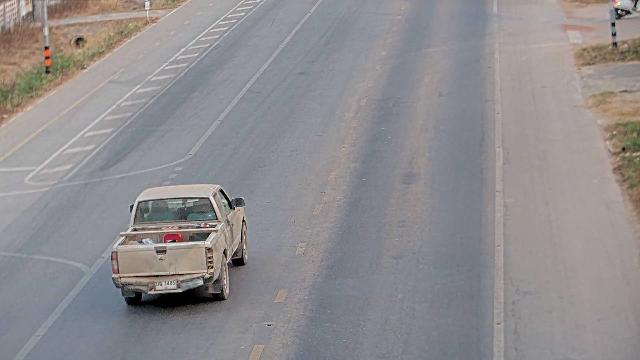pickup-truck: (110, 182, 248, 305)
